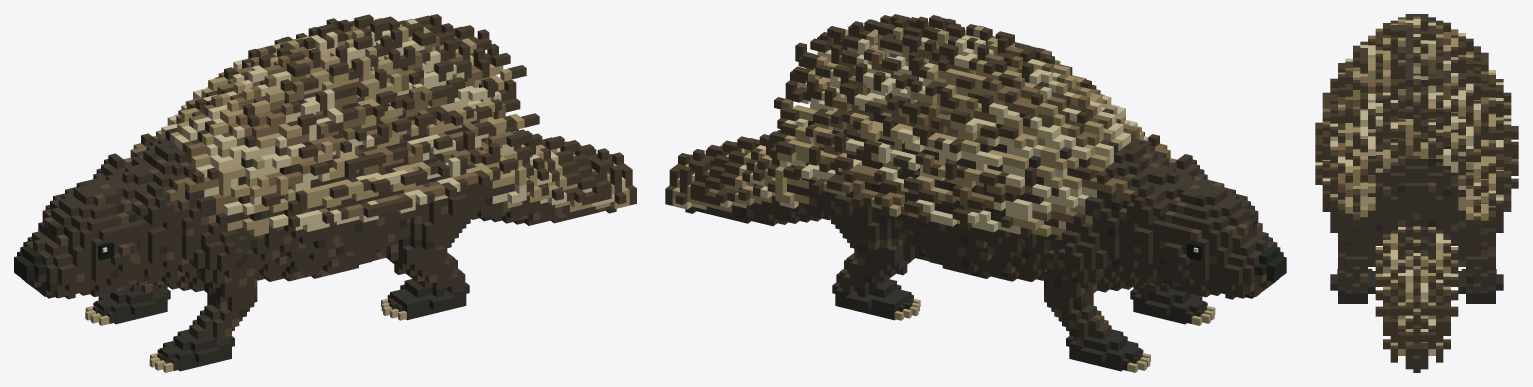
Rendered from North_American_Porcupine.glb.
3 renders of one model, left to right at view 1: azimuth 30°, elevation 25°; view 2: azimuth 150°, elevation 25°; view 3: azimuth 270°, elevation 25°, orthographic. The views are drawn at different scales.
Parts seen in each view (by area): view 1: Espinhos dorsais, Pelagem e anatomia, Cabeca, Espinhos da cauda, Patas, Focinho, Cauda grossa, Orelhas pequenas, Nariz; view 2: Espinhos dorsais, Pelagem e anatomia, Cabeca, Espinhos da cauda, Patas, Focinho, Cauda grossa, Orelhas pequenas, Nariz; view 3: Espinhos dorsais, Pelagem e anatomia, Espinhos da cauda, Cauda grossa, Patas, Cabeca.
Boxes of the visible parts, left/top/right/bottom form: Espinhos dorsais: left=124, top=14, right=539, bottom=236; Pelagem e anatomia: left=98, top=60, right=486, bottom=346; Cabeca: left=38, top=178, right=147, bottom=296; Espinhos da cauda: left=492, top=127, right=636, bottom=212; Patas: left=95, top=279, right=469, bottom=371; Focinho: left=20, top=231, right=94, bottom=299; Cauda grossa: left=471, top=170, right=616, bottom=225; Orelhas pequenas: left=93, top=153, right=177, bottom=230; Nariz: left=14, top=246, right=45, bottom=281; Espinhos dorsais: left=769, top=14, right=1176, bottom=236; Pelagem e anatomia: left=808, top=53, right=1203, bottom=346; Cabeca: left=1153, top=178, right=1262, bottom=297; Espinhos da cauda: left=665, top=130, right=808, bottom=212; Patas: left=832, top=279, right=1205, bottom=371; Focinho: left=1206, top=231, right=1280, bottom=299; Cauda grossa: left=685, top=163, right=830, bottom=226; Orelhas pequenas: left=1123, top=154, right=1207, bottom=230; Nariz: left=1254, top=246, right=1286, bottom=282; Espinhos dorsais: left=1315, top=16, right=1518, bottom=226; Pelagem e anatomia: left=1322, top=23, right=1511, bottom=293; Espinhos da cauda: left=1375, top=226, right=1458, bottom=362; Cauda grossa: left=1383, top=223, right=1450, bottom=372; Patas: left=1330, top=271, right=1503, bottom=303; Cabeca: left=1390, top=14, right=1443, bottom=25.
Size of the model in its own units: 3.28 by 1.32 by 1.08.
